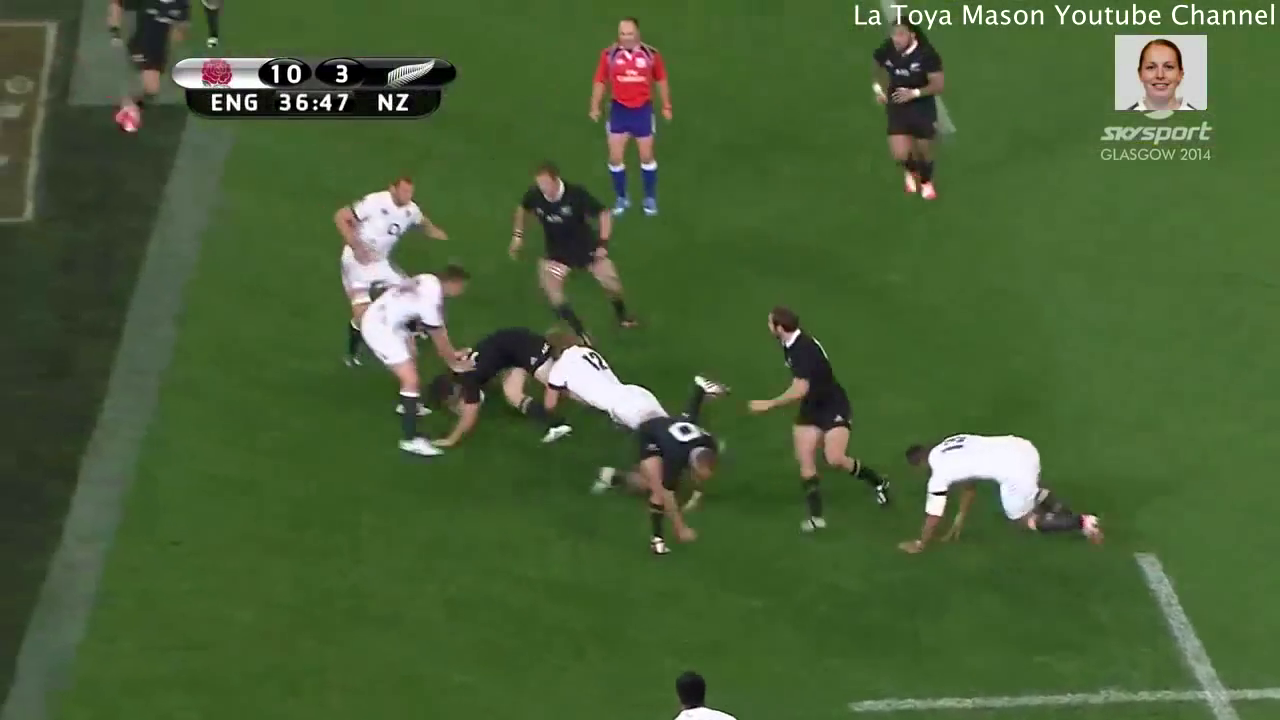10_metre: (821, 541, 1280, 720)
player: (741, 308, 896, 537), (889, 428, 1117, 558), (502, 160, 656, 351), (352, 259, 475, 464), (321, 173, 441, 369), (535, 324, 733, 440), (589, 403, 726, 564), (576, 12, 677, 223), (421, 328, 574, 450), (862, 11, 949, 204), (102, 1, 203, 138), (655, 655, 748, 720)
